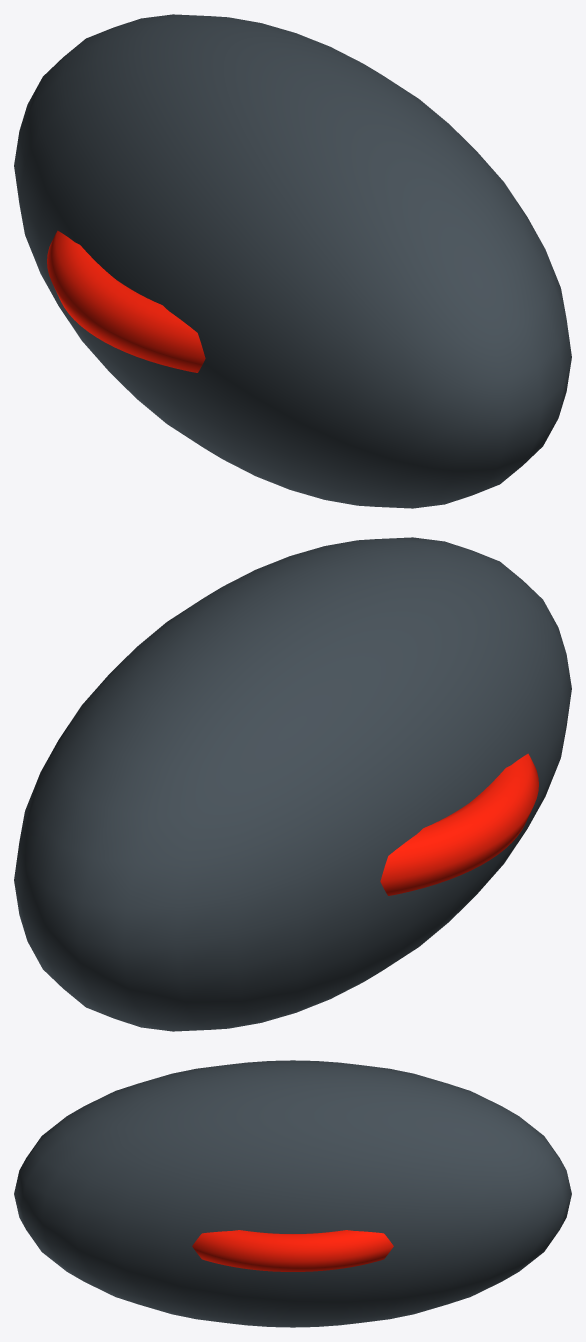
Rendered from star_destroyer_bomb.obj.
3 renders of one model, top to bottom at view 1: azimuth 30°, elevation 25°; view 2: azimuth 150°, elevation 25°; view 3: azimuth 270°, elevation 25°, orthographic. The views are drawn at different scales.
Visible parts, largest first — view 1: star_destroyer_bomb; view 2: star_destroyer_bomb; view 3: star_destroyer_bomb.
Boxes of the visible parts, x1,y1,x2,y2 form: star_destroyer_bomb: (14, 14, 571, 508); star_destroyer_bomb: (14, 537, 571, 1031); star_destroyer_bomb: (14, 1060, 571, 1327).
Bounding box in the file's own units: 0.55 × 0.46 × 0.96.
